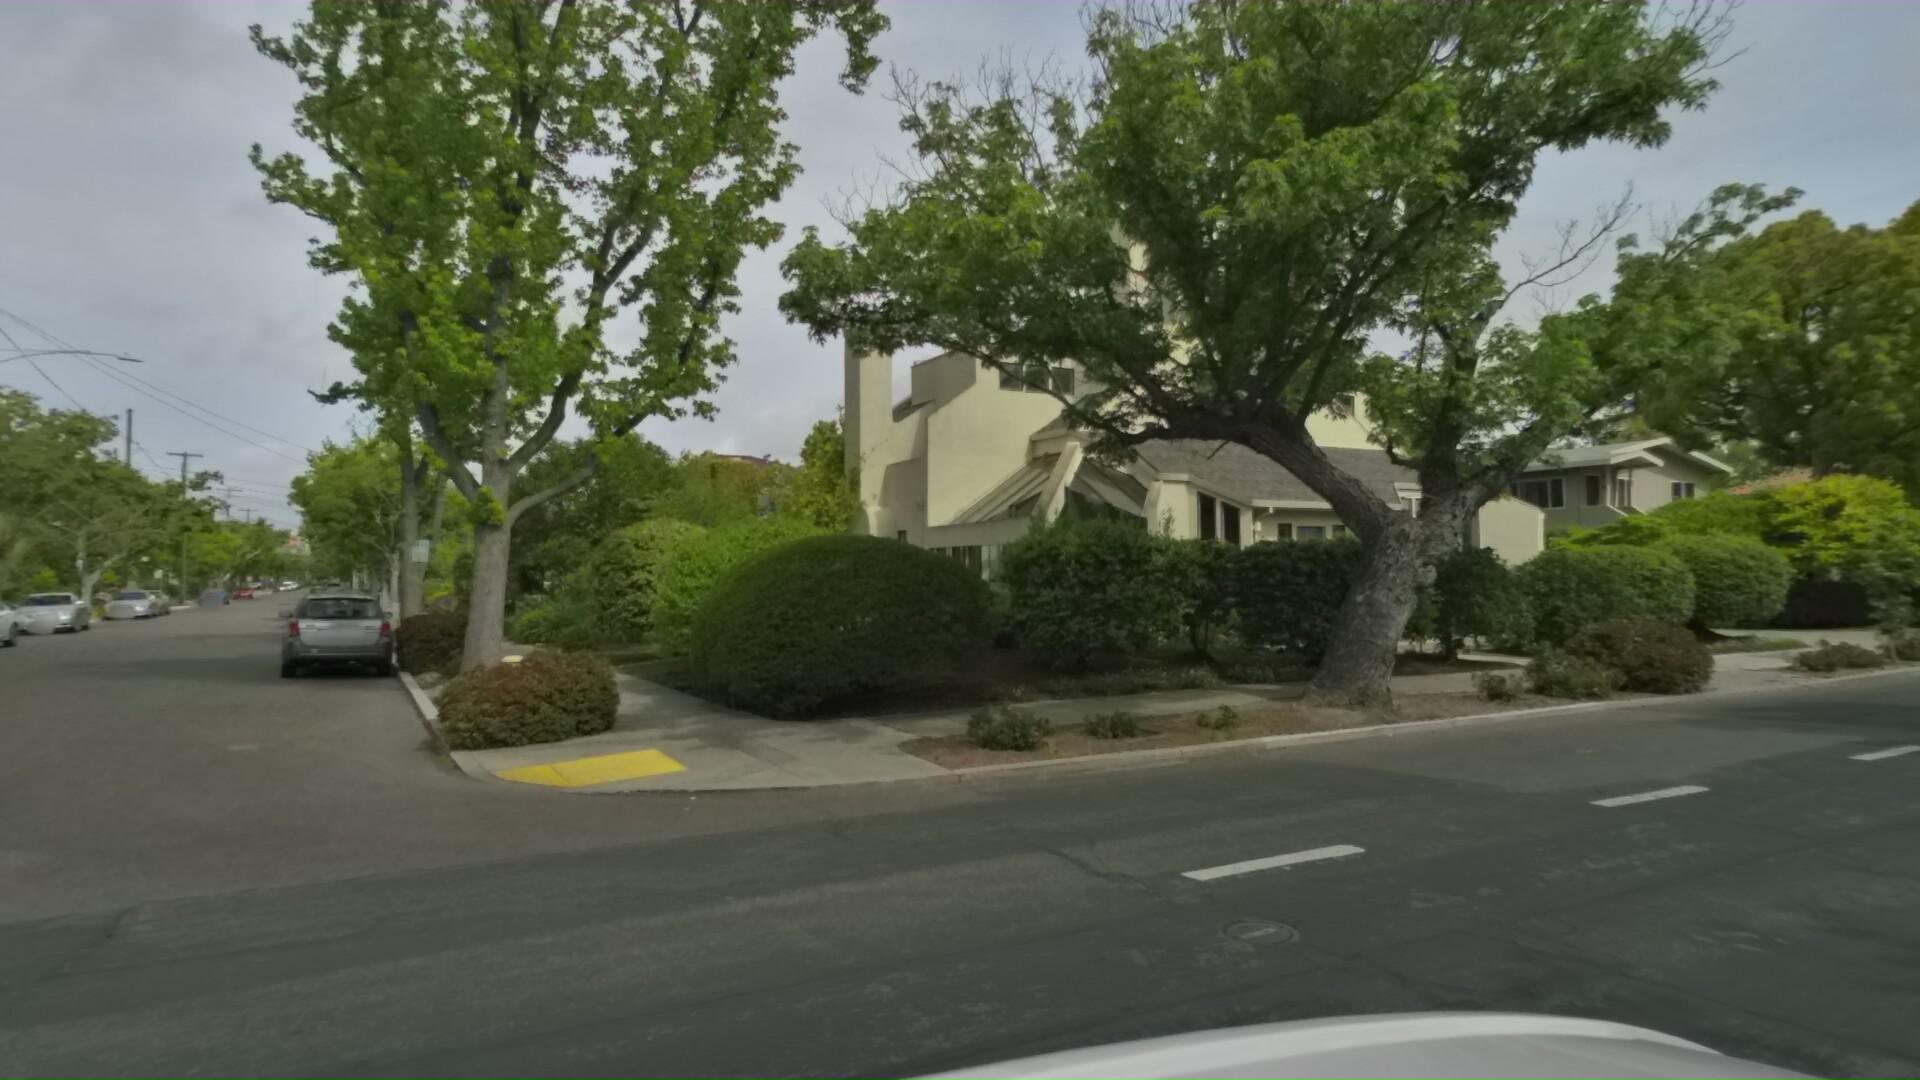car: (235, 580, 364, 687), (1818, 526, 1920, 622), (0, 582, 86, 634), (88, 583, 154, 620), (111, 583, 166, 616), (0, 583, 8, 659)
